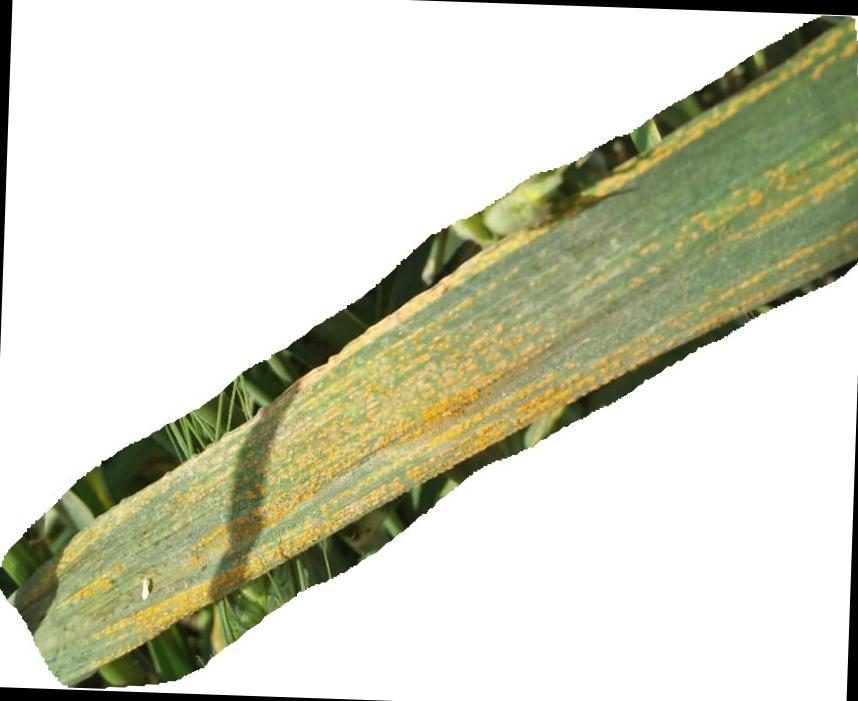Wheat: (434, 118, 858, 398), (120, 351, 496, 632)
